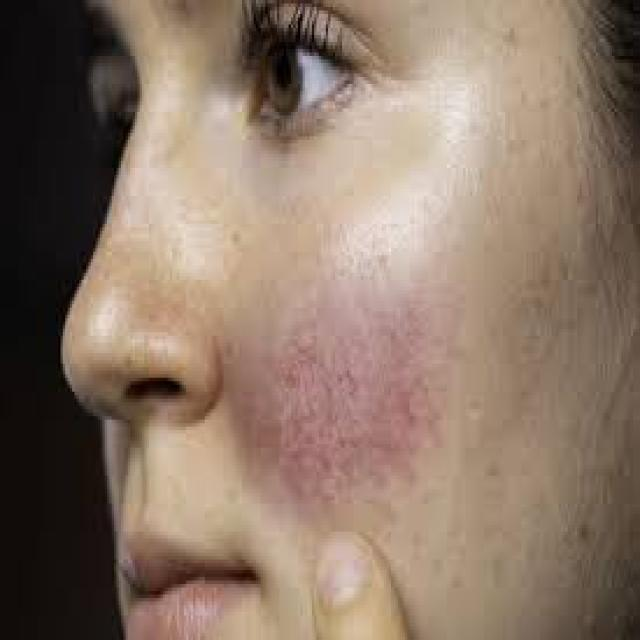Rosacea: (233, 278, 450, 494)
